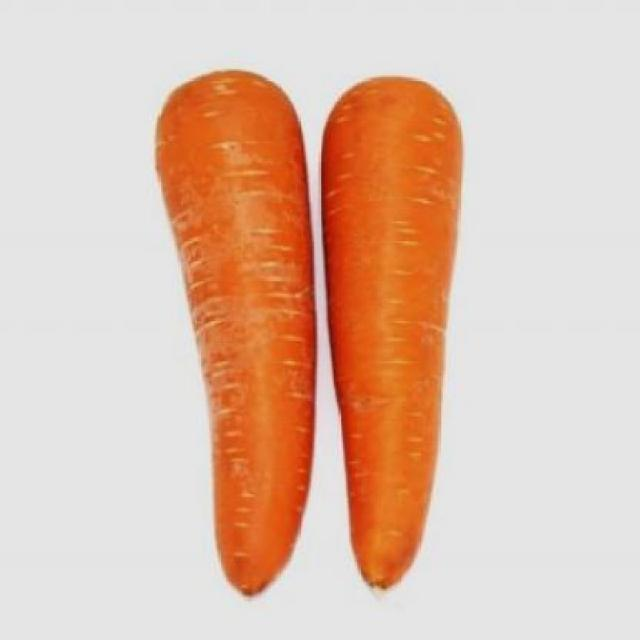carrot: (146, 69, 323, 610), (319, 73, 468, 604)
